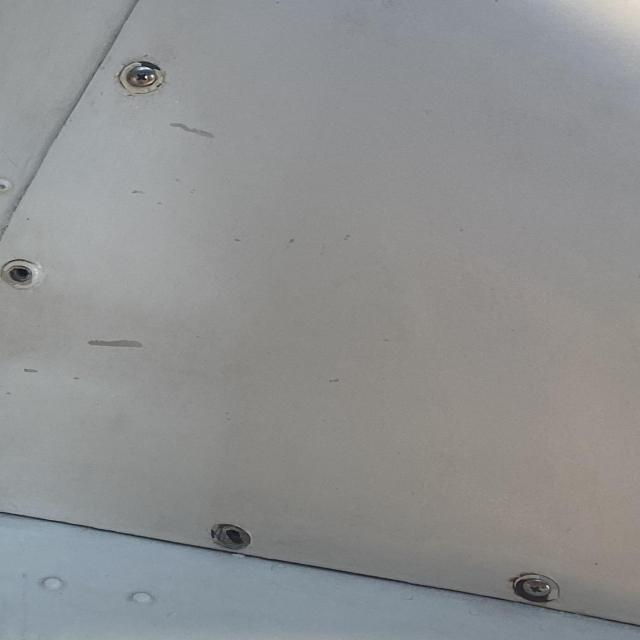Missing-head: (0, 259, 44, 289), (210, 524, 253, 553)
Paint-off: (169, 121, 217, 138), (88, 339, 143, 349), (21, 366, 44, 375)
